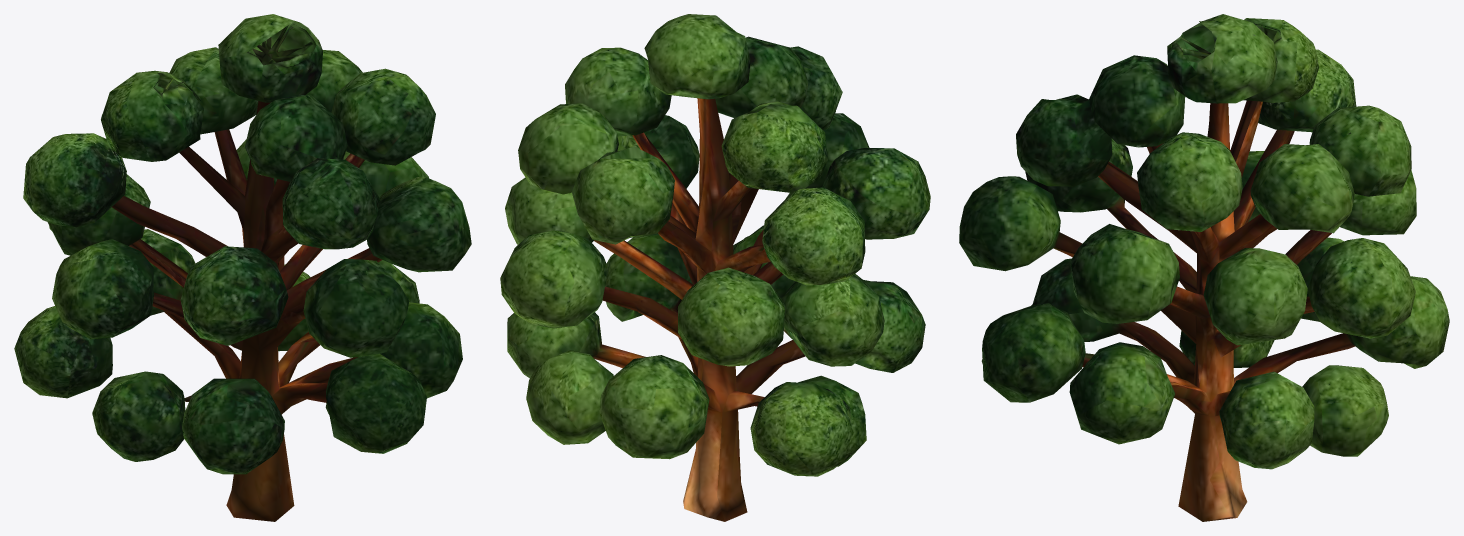
File: roundtree.glb
3 views of the same model, side by side, from view 1: azimuth 30°, elevation 25°; view 2: azimuth 150°, elevation 25°; view 3: azimuth 270°, elevation 25° (orthographic). The views are drawn at different scales.
Visible parts, largest first — view 1: tripo_node_6771f0dd-45cd-4ef8-a297-49ceb992178d; view 2: tripo_node_6771f0dd-45cd-4ef8-a297-49ceb992178d; view 3: tripo_node_6771f0dd-45cd-4ef8-a297-49ceb992178d.
Boxes of the visible parts, x1,y1,x2,y2 form: tripo_node_6771f0dd-45cd-4ef8-a297-49ceb992178d: [14, 14, 471, 521]; tripo_node_6771f0dd-45cd-4ef8-a297-49ceb992178d: [500, 14, 930, 521]; tripo_node_6771f0dd-45cd-4ef8-a297-49ceb992178d: [959, 14, 1449, 521].
Size of the model in its own units: 0.7945 by 0.9962 by 0.8944.
1 material, 1 textured.
